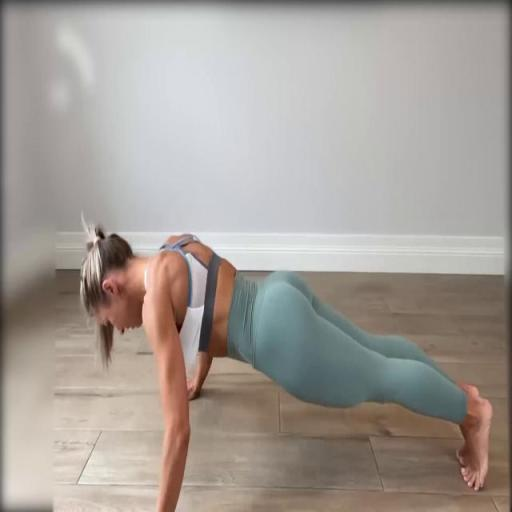Normal_Dips: (7, 215, 512, 512)
